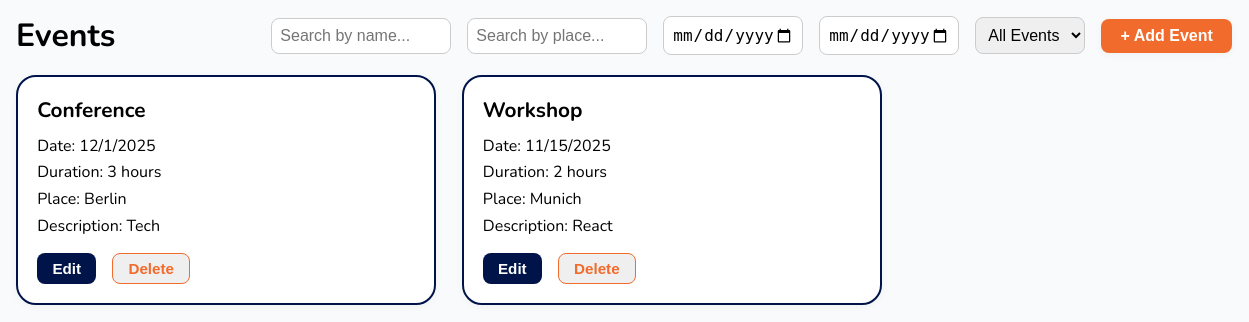
it: EventsHome Component - Unit Tests › Search and Filter Functionality › should filter events by name
Expected: the heading "Conference" is shown, 37,96 -> 146,124
Expected: the heading "Workshop" is shown, 483,96 -> 582,124
# Search for "Conference"
Step 1. Type "Conference" into the field with placeholder "Search by name..." → (361, 36), box 271,18 -> 451,54
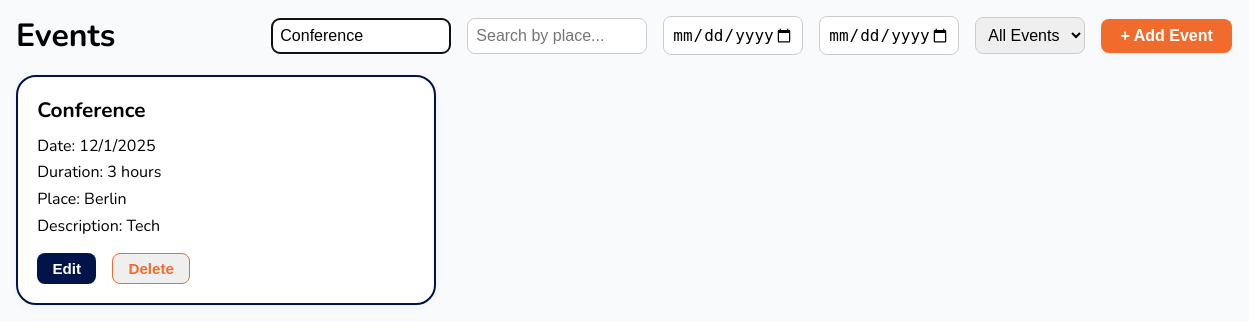
Expected: the heading "Conference" is shown, 37,96 -> 146,124
Expected: the heading "Workshop" is gone
